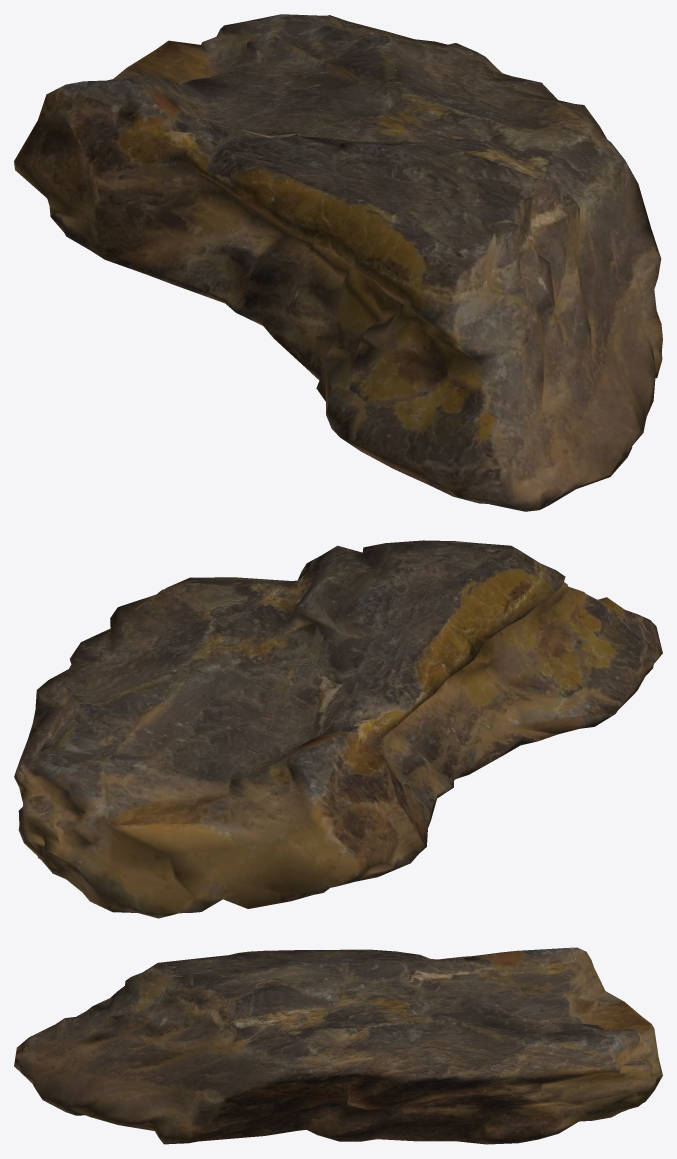
File: rock_09.glb
3 renders of one model, top to bottom at view 1: azimuth 30°, elevation 25°; view 2: azimuth 150°, elevation 25°; view 3: azimuth 270°, elevation 25°, orthographic. The views are drawn at different scales.
Parts seen in each view (by area): view 1: rock_09_LOD0; view 2: rock_09_LOD0; view 3: rock_09_LOD0.
Part boxes in pixels (x1,y1,x2,y2): rock_09_LOD0: (14, 14, 662, 511); rock_09_LOD0: (14, 540, 662, 918); rock_09_LOD0: (14, 947, 662, 1144).
Bounding box in the file's own units: 0.0739 × 0.0326 × 0.1446.
Materials: 1 (1 with a texture image).
